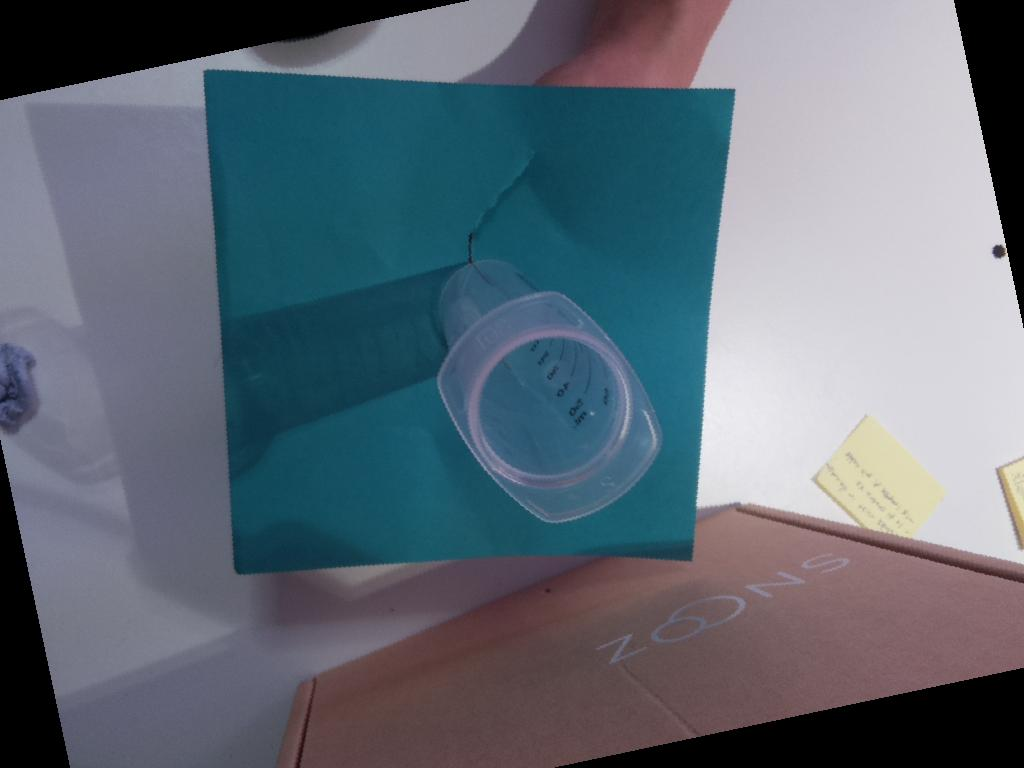clean: (432, 289, 665, 523)
